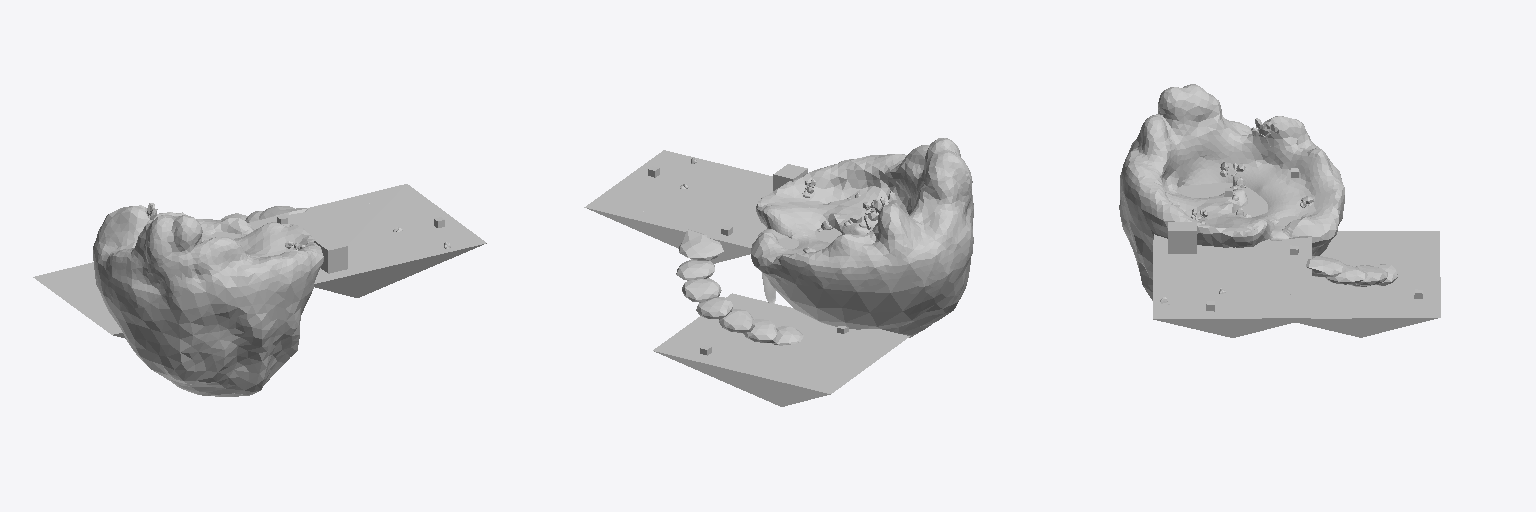
Rendered from Enviroment1.obj.
The picture shows the model from 3 angles: view 1: azimuth 30°, elevation 25°; view 2: azimuth 150°, elevation 25°; view 3: azimuth 270°, elevation 25°; orthographic projection.
Parts seen in each view (by area): view 1: Icosphere, Plane.001, Plane.002, Cube, Icosphere.013; view 2: Icosphere, Plane.002, Plane.001, Icosphere.013, Plane; view 3: Icosphere, Plane.001, Plane.002, Icosphere.013, Plane, Cube.
Part boxes in pixels (x1,y1,x2,y2): Icosphere: (93,205,323,396); Plane.001: (248,184,486,297); Plane.002: (33,262,125,338); Cube: (314,235,347,273); Icosphere.013: (222,206,307,222); Icosphere: (751,138,973,337); Plane.002: (653,293,909,406); Plane.001: (584,150,772,263); Icosphere.013: (676,229,803,345); Plane: (758,228,841,303); Icosphere: (1119,84,1344,300); Plane.001: (1153,234,1312,337); Plane.002: (1295,231,1440,337); Icosphere.013: (1306,256,1397,286); Plane: (1179,182,1300,240); Cube: (1168,222,1196,253).
Bounding box in the file's own units: 33.72 × 20.82 × 27.99.